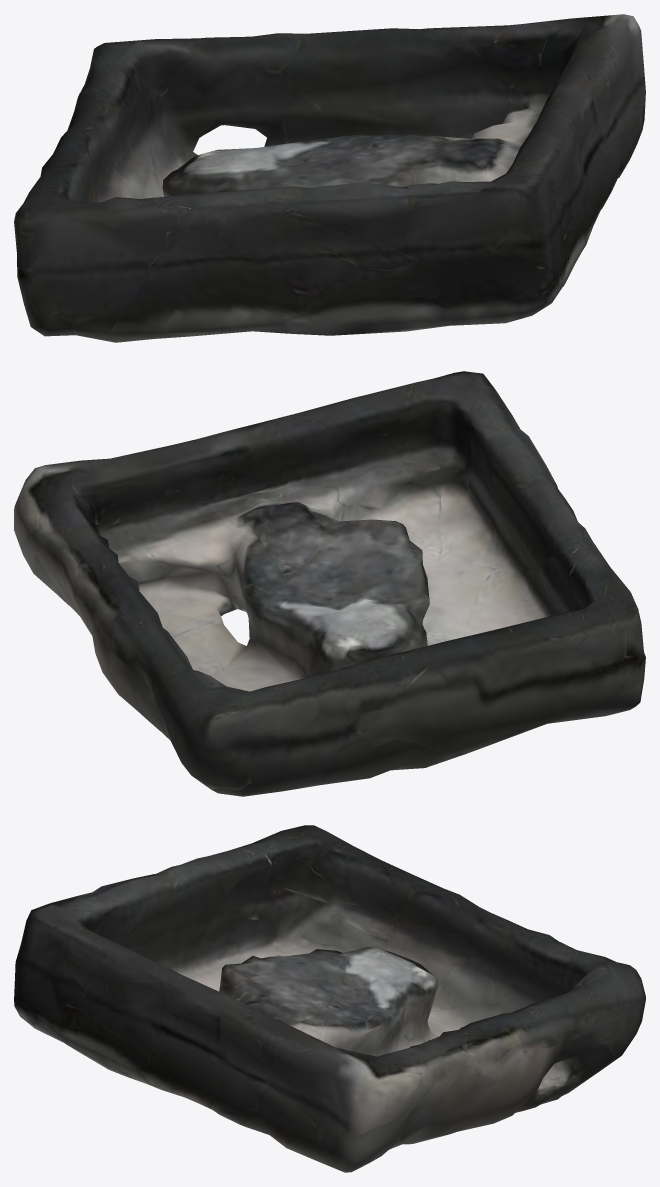
The model's file is hall.glb.
3 renders of one model, top to bottom at view 1: azimuth 30°, elevation 25°; view 2: azimuth 150°, elevation 25°; view 3: azimuth 270°, elevation 25°, orthographic. The views are drawn at different scales.
Size of the model in its own units: 0.9049 by 0.3073 by 0.8916.
Materials: 1 (1 with a texture image).
